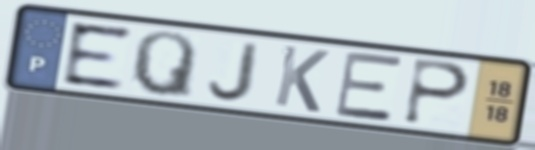E: (332, 50, 405, 124), (61, 20, 135, 91)
J: (205, 39, 265, 104)
K: (270, 42, 332, 115)
P: (400, 56, 474, 128)
Q: (128, 29, 199, 102)
